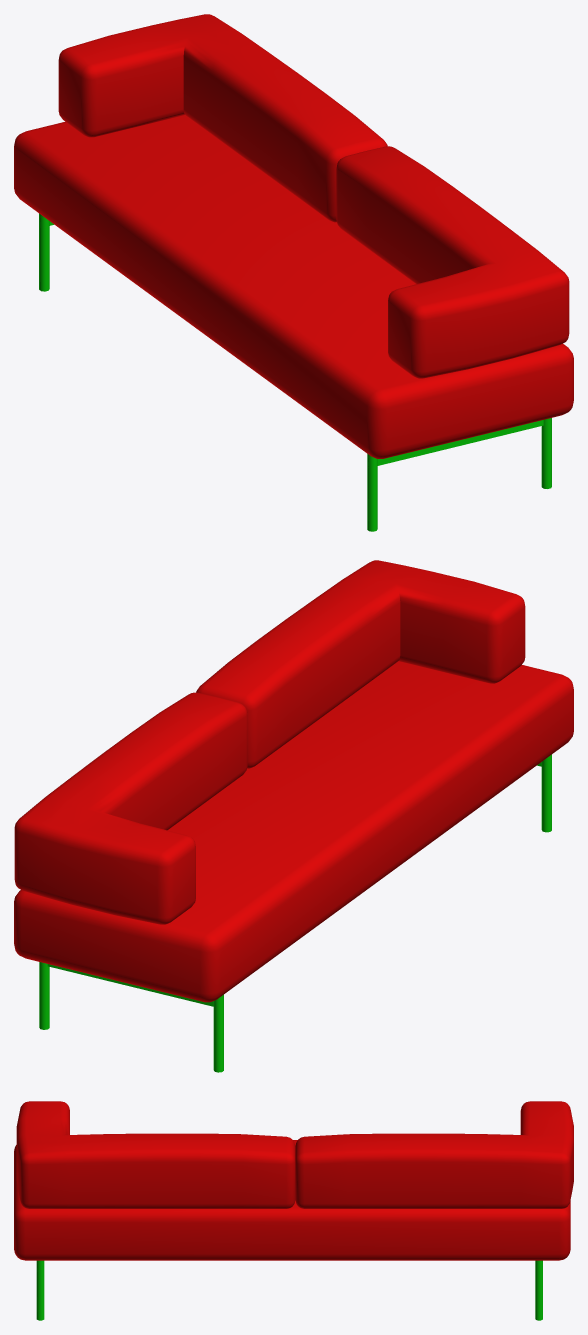
Rendered from Long Sofa.fbx.
The picture shows the model from 3 angles, top to bottom: view 1: azimuth 30°, elevation 25°; view 2: azimuth 150°, elevation 25°; view 3: azimuth 270°, elevation 25°; orthographic projection. The views are drawn at different scales.
Parts seen in each view (by area): view 1: Cylinder.002; view 2: Cylinder.002; view 3: Cylinder.002.
Part boxes in pixels (x1,y1,x2,y2): Cylinder.002: [14, 14, 573, 531]; Cylinder.002: [14, 560, 573, 1072]; Cylinder.002: [14, 1101, 573, 1320].
Bounding box in the file's own units: 89.28 × 94.38 × 278.
